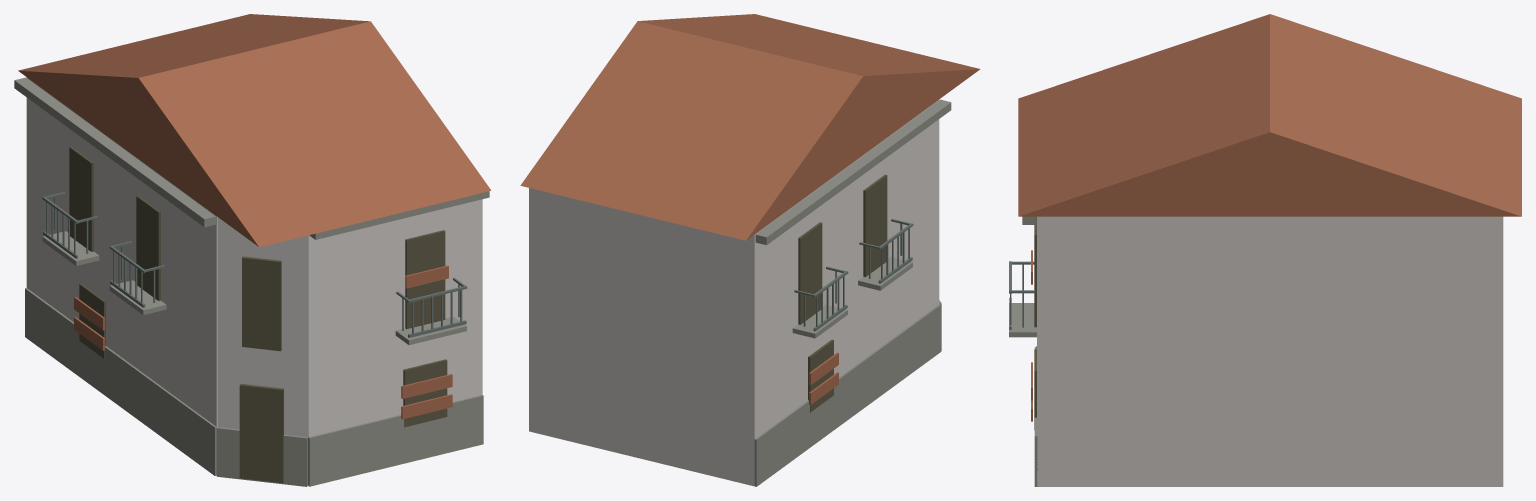
File: SM_Esquina_v4_Tapiada_LOD0.fbx
3 views of the same model, side by side, from view 1: azimuth 30°, elevation 25°; view 2: azimuth 150°, elevation 25°; view 3: azimuth 270°, elevation 25° (orthographic). The views are drawn at different scales.
Visible parts, largest first — view 1: SM_pueblo_valenciano_v4_LOD0; view 2: SM_pueblo_valenciano_v4_LOD0; view 3: SM_pueblo_valenciano_v4_LOD0.
Boxes of the visible parts, <box> form: SM_pueblo_valenciano_v4_LOD0: <box>14,14,491,486</box>; SM_pueblo_valenciano_v4_LOD0: <box>520,14,980,486</box>; SM_pueblo_valenciano_v4_LOD0: <box>1009,14,1521,486</box>.
Size of the model in its own units: 6.6 by 8.4 by 11.
